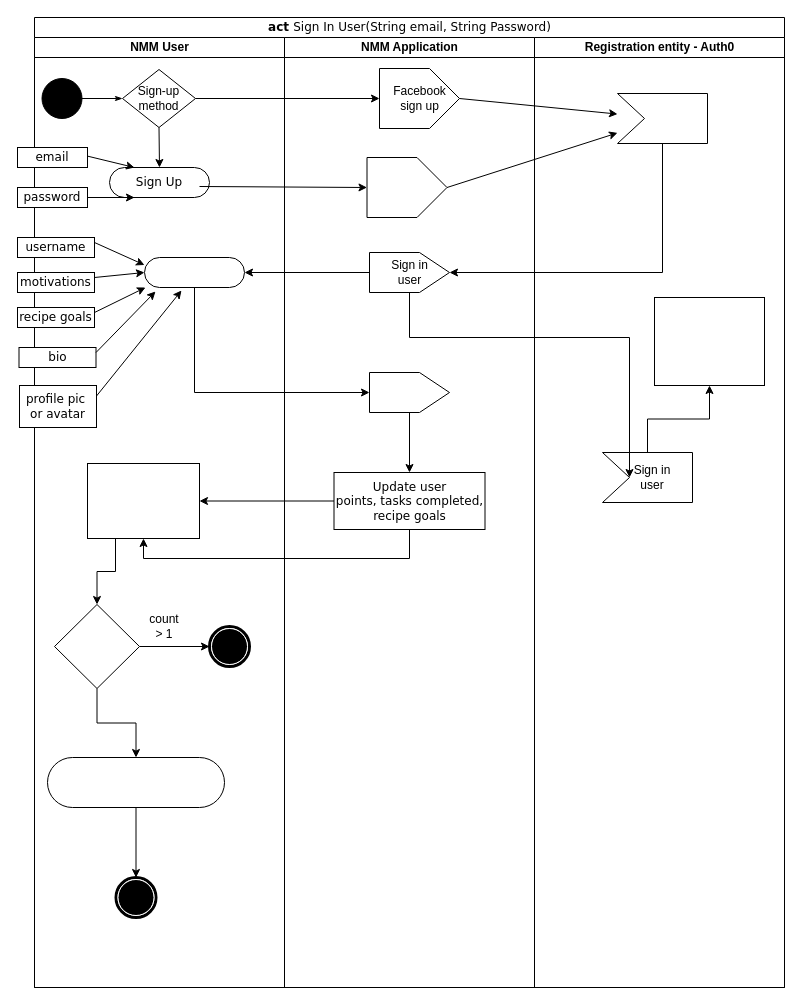
The diagram is 802 pixels wide and 1005 high, and some of its shapes have lost their labels. The shapes that lost their labels are listed below. From the top down, each one's centre as x and y in pixels, then its label:
At point (662, 118): "Create user".
At point (406, 187): "Auth0 sign up".
At point (194, 272): "Fill in Profile".
At point (709, 341): "Update sign-in count Assign User Role".
At point (409, 392): "Create profile".
At point (143, 500): "Display profile".
At point (97, 646): "sign in count".
At point (135, 782): "Would you like to go to the recipe challenge page?".
